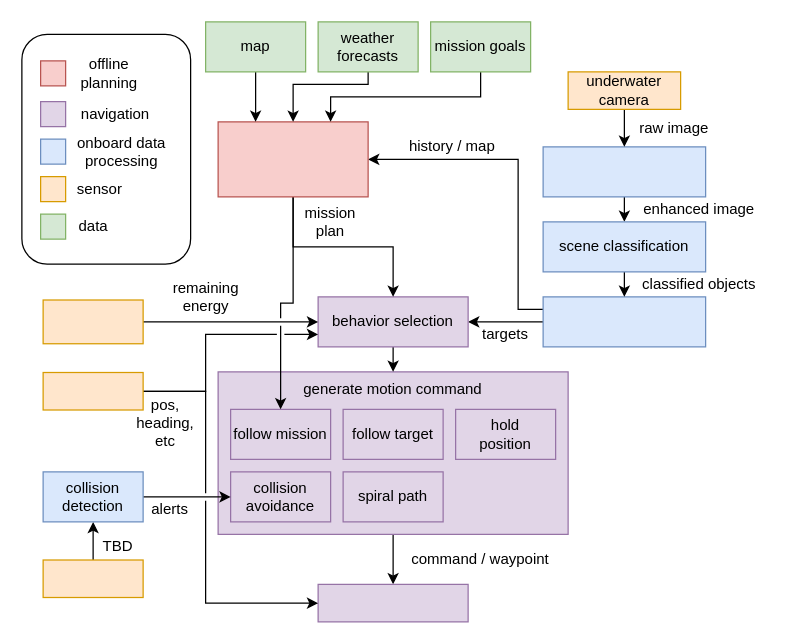
This 796x644 diagram has some shape labels left out. The shapes that lost their labels are listed below. From the top down, each one's centre as x and y in pixels, then its label:
the point at 292,159: deliberative mission planning
the point at 624,171: image enhancement
the point at 92,321: battery sensor
the point at 624,321: utility assignment
the point at 92,390: position sensors
the point at 92,578: collision sensor
the point at 392,602: PID controller
